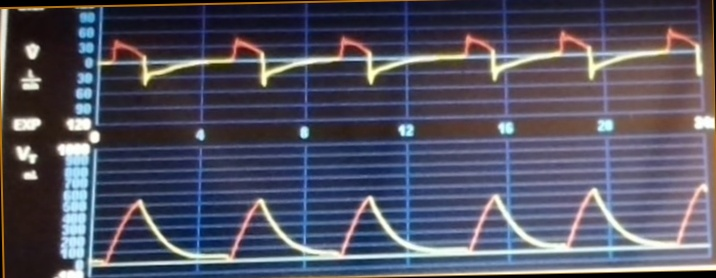Normal Flow: (104, 18, 703, 105)
Normal Volume: (96, 172, 707, 264)
